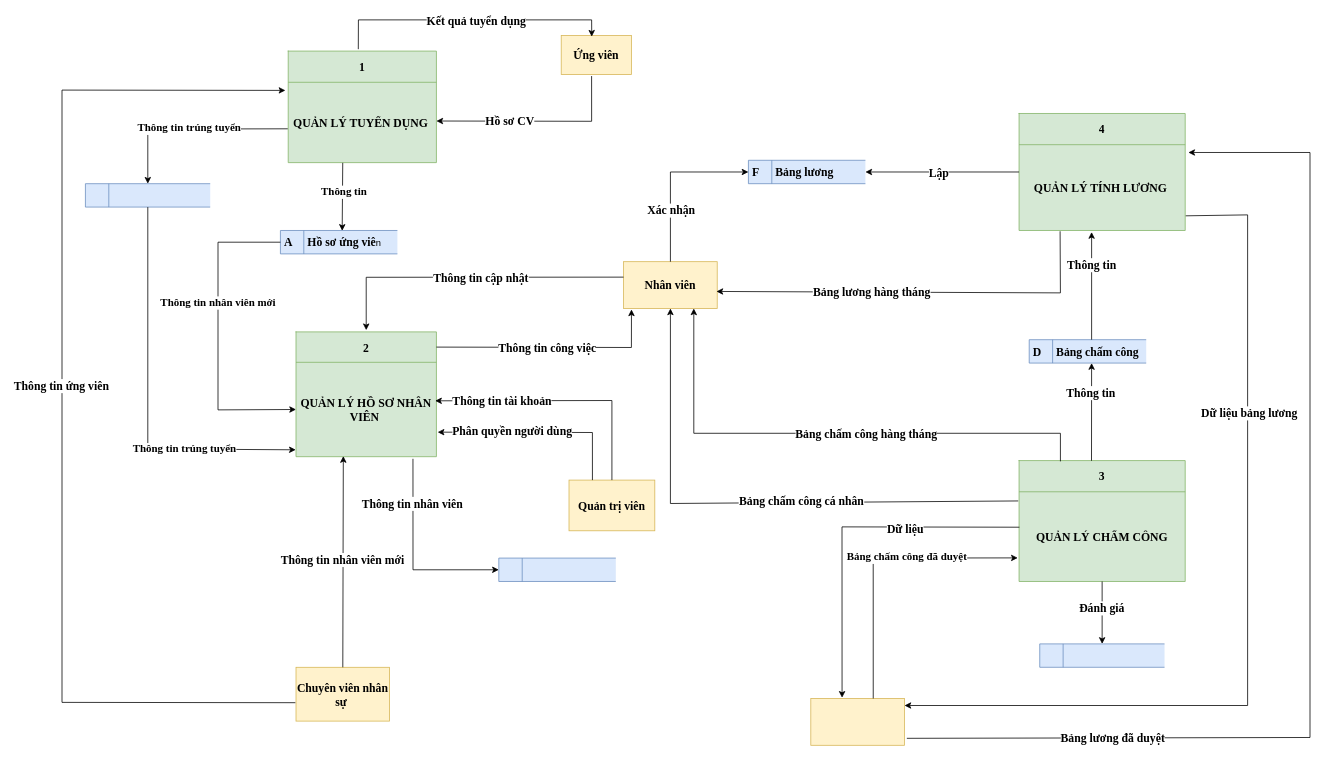
Some shapes in this 1330 by 759 pixel diagram are drawn without their labels. Here are the shapes that lost their labels. From the top down, the centre of each, then its label:
At (147,195): "B Hồ sơ trúng tuyển".
At (557,569): "C Hồ sơ nhân viên".
At (1102,655): "E Báo cáo chấm công".
At (857,721): "Giám đốc".
